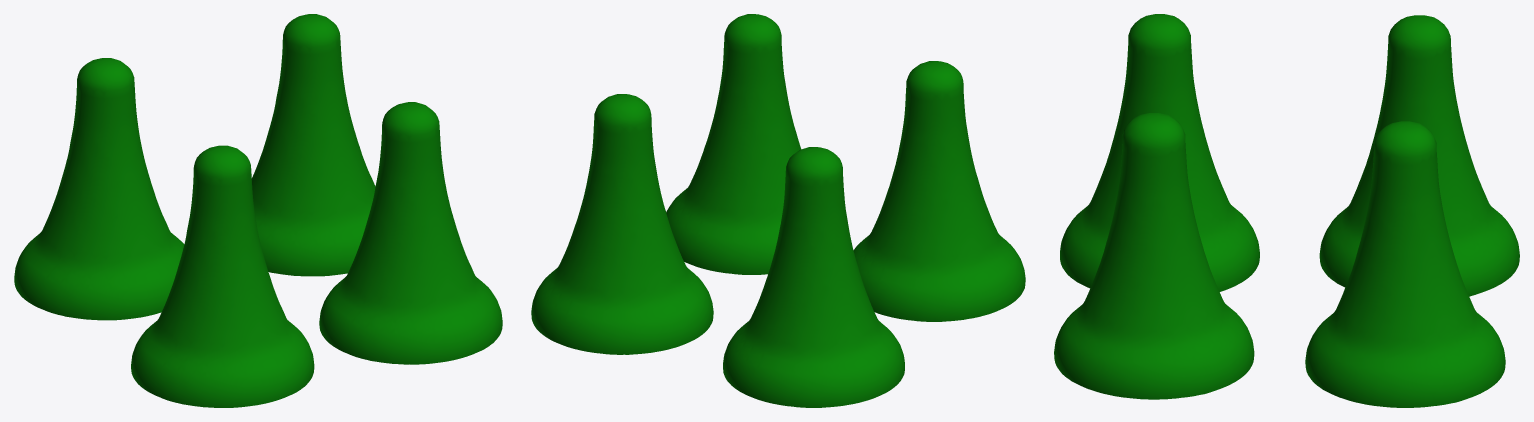
The model's file is Board_Pawn_G.fbx.
3 views of the same model, side by side, from view 1: azimuth 30°, elevation 25°; view 2: azimuth 150°, elevation 25°; view 3: azimuth 270°, elevation 25° (orthographic). The views are drawn at different scales.
Visible parts, largest first — view 1: Board_Pawn_G; view 2: Board_Pawn_G; view 3: Board_Pawn_G.
Part boxes in pixels (bbox=[...]): Board_Pawn_G: bbox=[14, 14, 502, 407]; Board_Pawn_G: bbox=[531, 14, 1025, 407]; Board_Pawn_G: bbox=[1054, 14, 1519, 407].
Size of the model in its own units: 5.11 by 2.98 by 5.24.
